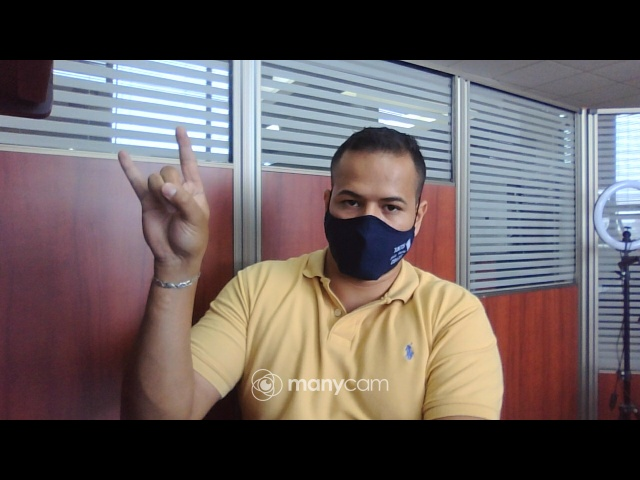I Love You: (103, 124, 213, 281)
